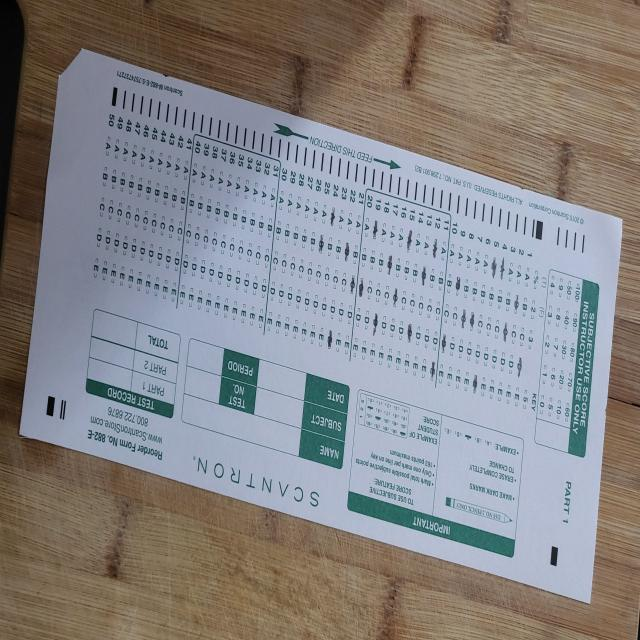scantron: (18, 47, 624, 605)
